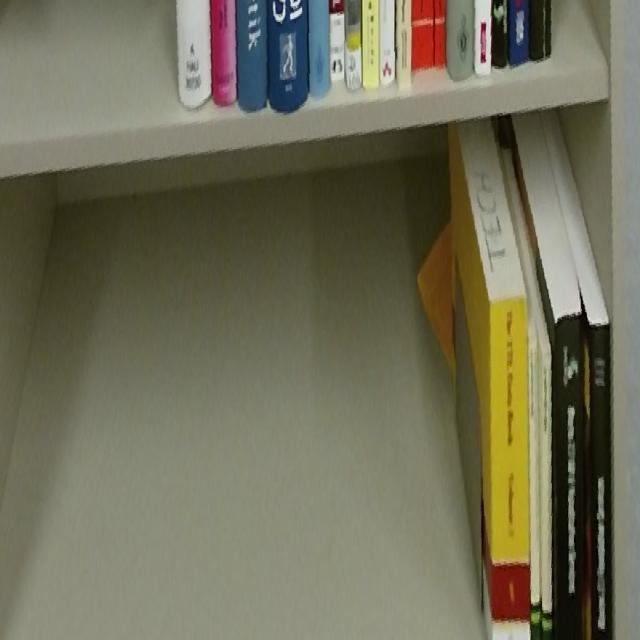Book Spine: (490, 296, 530, 640), (556, 312, 583, 639), (590, 320, 613, 640), (528, 337, 541, 639), (542, 350, 553, 639)
